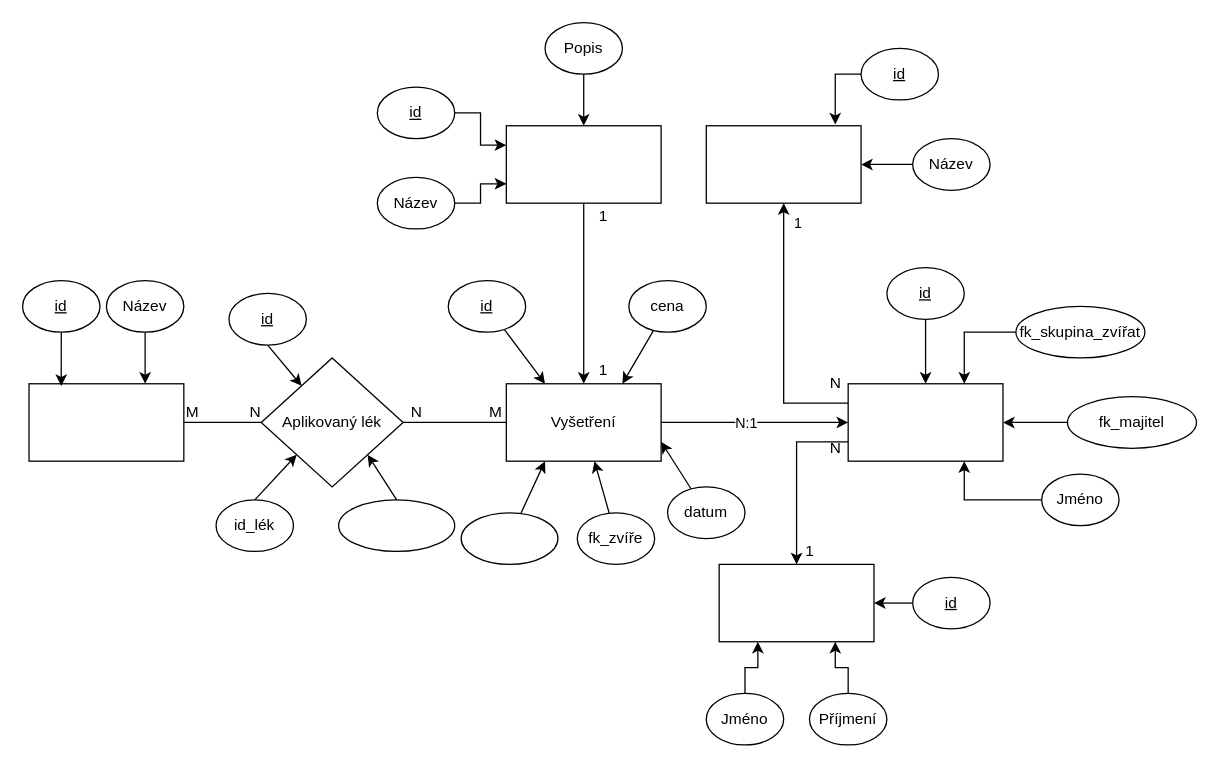
This 1219x768 diagram has some shape labels left out. Each missing label, with the centre of its shape:
"Diagnóza" goes at point 583,163.
"fk_diagnóza" goes at point 509,537.
"id_vyšetření" goes at point 396,525.
"Lék" goes at point 106,421.
"Majitel zvířete" goes at point 796,602.
"Skupina zvířat" goes at point 783,163.
"Zvíře" goes at point 925,421.
